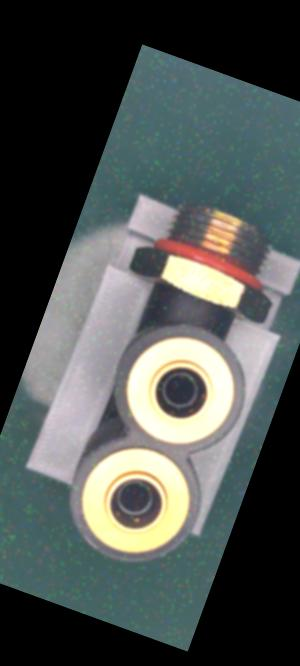joint line: (185, 296, 206, 330)
